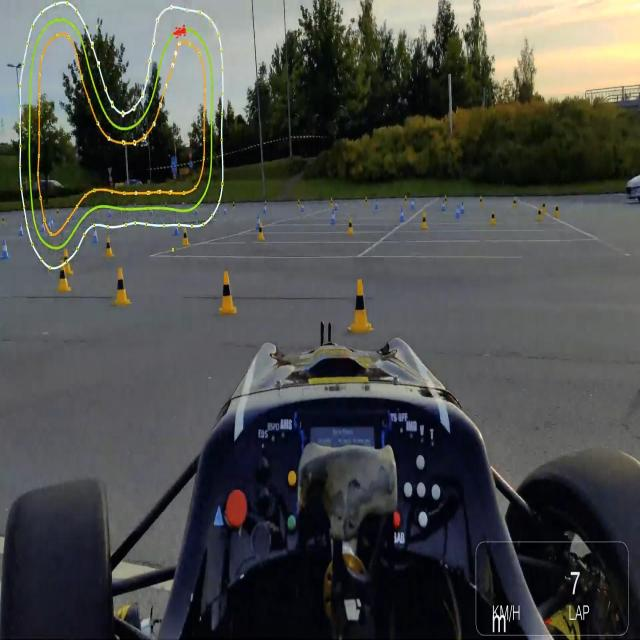blue_cone: (1, 238, 11, 260), (92, 223, 98, 242), (255, 214, 261, 231), (18, 223, 24, 238), (399, 207, 404, 224), (330, 210, 336, 224), (173, 220, 178, 236), (455, 204, 460, 220)
yellow_cone: (346, 276, 375, 336), (218, 267, 238, 317), (112, 265, 133, 309), (56, 265, 70, 294), (60, 248, 72, 277), (104, 235, 113, 259), (346, 214, 356, 234), (257, 222, 266, 242), (182, 226, 190, 247), (421, 209, 428, 230), (536, 205, 543, 224), (554, 202, 561, 220), (490, 208, 496, 227)
